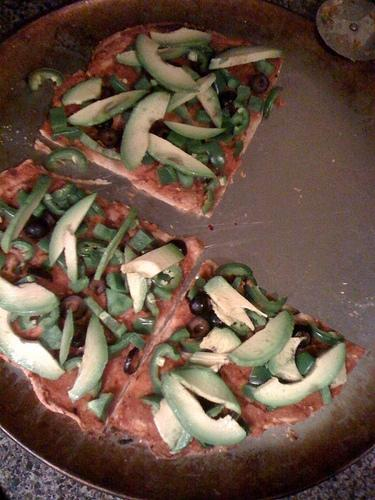avocado: (161, 370, 246, 448), (252, 341, 346, 407), (0, 307, 66, 380), (120, 92, 171, 173), (226, 310, 295, 368), (1, 174, 51, 254), (136, 34, 200, 92), (48, 192, 97, 266), (68, 314, 108, 403), (170, 365, 242, 414), (93, 205, 139, 281), (147, 132, 217, 178), (64, 90, 149, 126), (63, 332, 133, 372), (204, 275, 268, 318), (182, 64, 222, 128), (152, 396, 194, 454), (0, 275, 59, 316), (120, 243, 184, 279), (198, 326, 242, 374), (166, 72, 216, 113), (83, 296, 127, 339), (208, 45, 283, 70), (269, 336, 306, 382), (125, 245, 148, 314), (211, 298, 255, 332), (116, 47, 192, 66), (196, 403, 225, 448), (77, 132, 122, 161), (150, 27, 212, 48), (164, 120, 228, 140), (44, 147, 88, 174), (50, 107, 82, 143), (61, 78, 102, 106), (63, 224, 78, 286), (151, 264, 183, 292), (60, 308, 74, 367), (28, 68, 64, 90), (106, 288, 134, 316), (87, 392, 114, 419), (38, 322, 62, 351), (186, 46, 208, 73), (215, 262, 252, 278), (264, 85, 281, 119), (232, 106, 251, 136), (178, 338, 213, 354), (50, 181, 76, 200), (189, 352, 230, 364), (38, 306, 60, 328), (105, 272, 127, 292), (108, 74, 130, 94), (126, 332, 146, 352), (0, 199, 17, 222), (145, 291, 160, 317), (132, 75, 154, 92), (175, 169, 194, 188), (246, 95, 264, 113), (202, 190, 214, 215), (173, 104, 191, 120), (152, 286, 172, 300), (90, 201, 106, 218), (236, 84, 251, 102), (193, 110, 212, 124), (320, 386, 332, 406), (231, 276, 245, 290), (227, 76, 240, 89)
